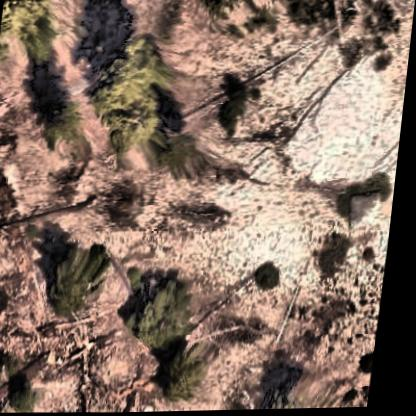tree-top: (75, 27, 176, 151), (37, 234, 122, 316), (121, 270, 203, 353), (0, 0, 71, 56), (33, 94, 90, 148), (164, 347, 218, 402), (154, 127, 199, 173), (220, 92, 249, 128), (15, 386, 52, 413)
